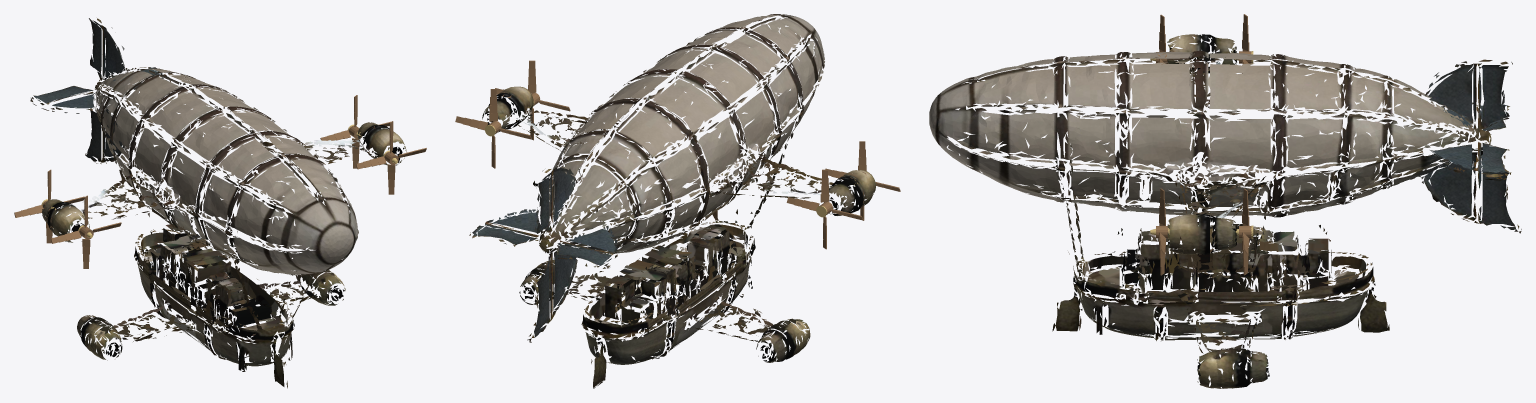
Rendered from cargo_airship.glb.
The picture shows the model from 3 angles, left to right: view 1: azimuth 30°, elevation 25°; view 2: azimuth 150°, elevation 25°; view 3: azimuth 270°, elevation 25°; orthographic projection. The views are drawn at different scales.
Visible parts, largest first — view 1: HullBody, PART_prop_fwd_port, PART_prop_fwd_stbd, PART_prop_aft_port, PART_prop_aft_stbd; view 2: HullBody, PART_prop_aft_port, PART_prop_aft_stbd, PART_prop_fwd_port, PART_prop_fwd_stbd; view 3: HullBody, PART_prop_aft_port, PART_prop_fwd_port.
Part boxes in pixels (bbox=[...]): HullBody: bbox=[30, 18, 406, 388]; PART_prop_fwd_port: bbox=[356, 121, 426, 194]; PART_prop_fwd_stbd: bbox=[51, 195, 121, 268]; PART_prop_aft_port: bbox=[320, 95, 390, 168]; PART_prop_aft_stbd: bbox=[14, 169, 84, 243]; HullBody: bbox=[469, 14, 875, 388]; PART_prop_aft_port: bbox=[455, 89, 531, 168]; PART_prop_aft_stbd: bbox=[786, 169, 863, 249]; PART_prop_fwd_port: bbox=[495, 60, 570, 140]; PART_prop_fwd_stbd: bbox=[825, 141, 900, 220]; HullBody: bbox=[929, 34, 1521, 388]; PART_prop_aft_port: bbox=[1235, 188, 1253, 275]; PART_prop_fwd_port: bbox=[1150, 188, 1169, 275].
Size of the model in its own units: 93.93 by 56.61 by 110.
3 materials, 1 textured.
